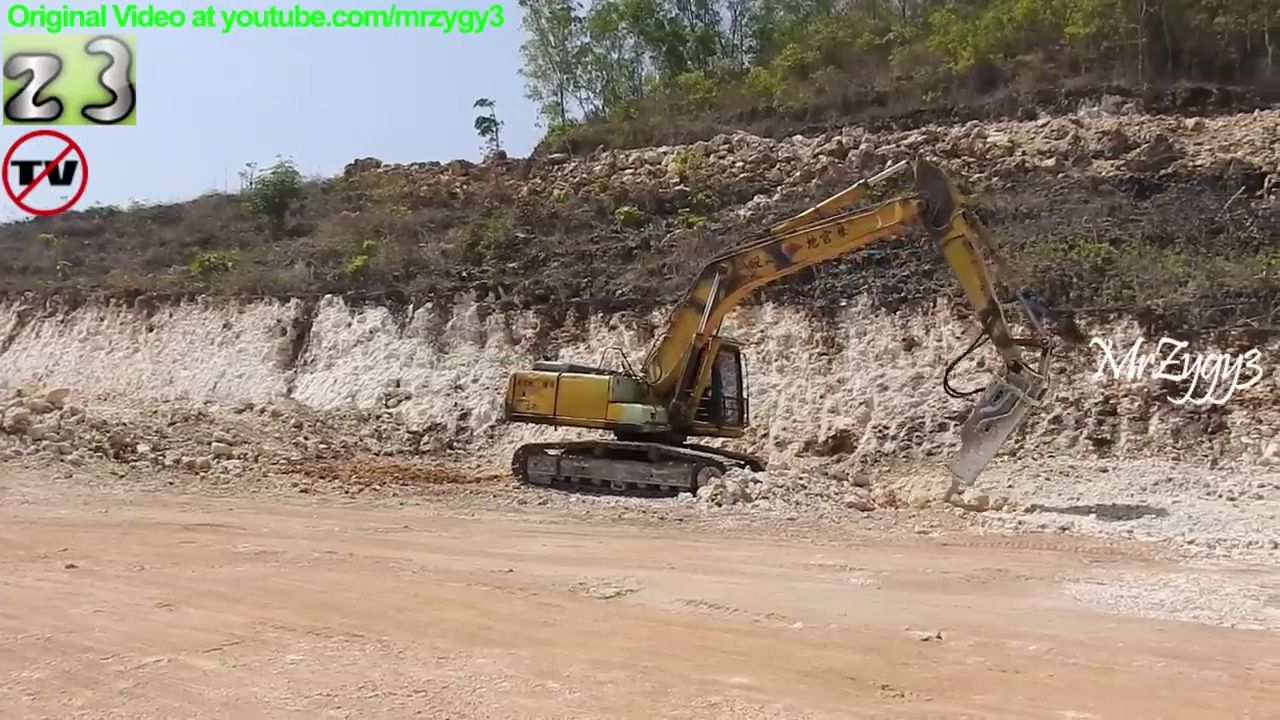excavator breaker: (496, 148, 1058, 512)
